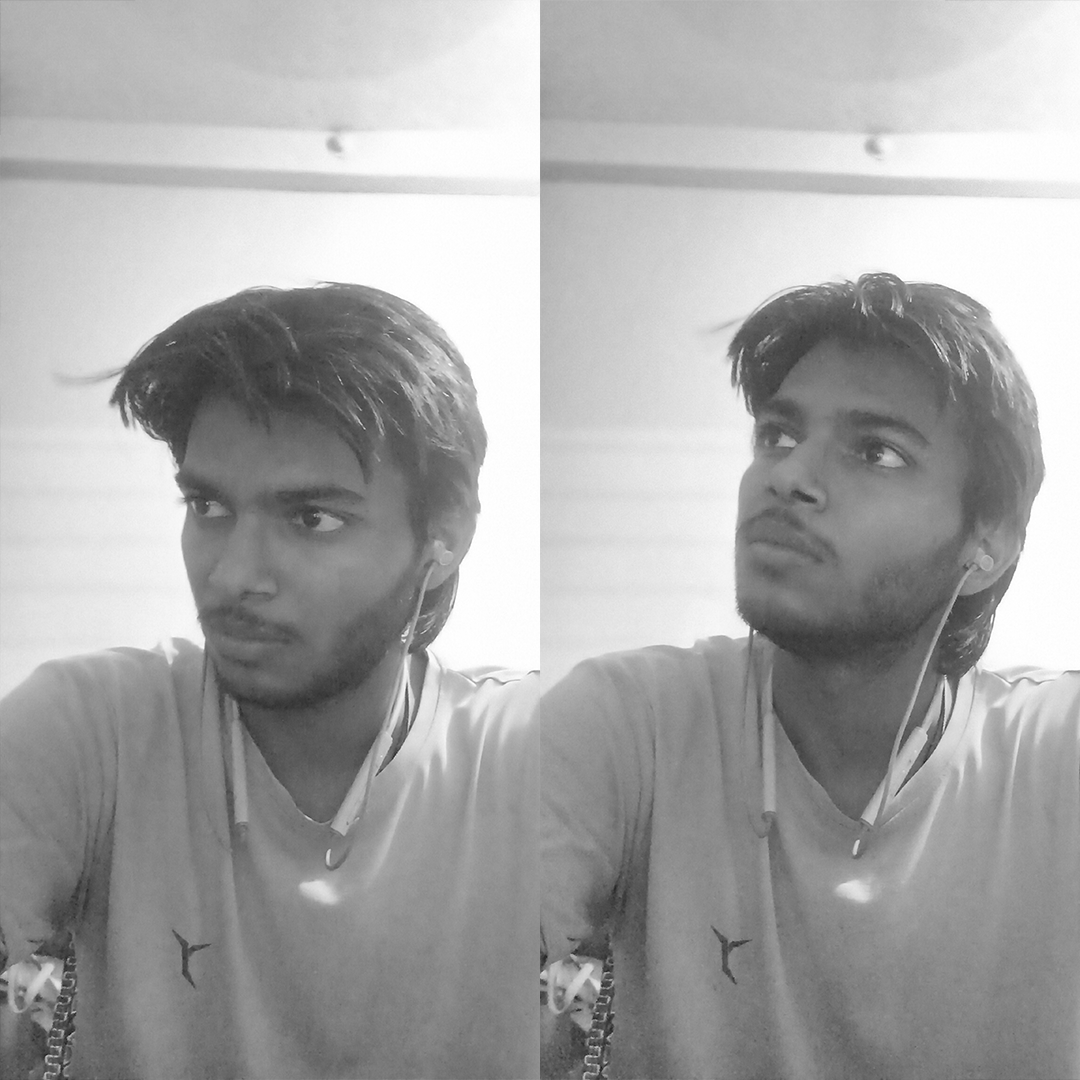distracted: (21, 182, 529, 1000), (604, 219, 1080, 945)
